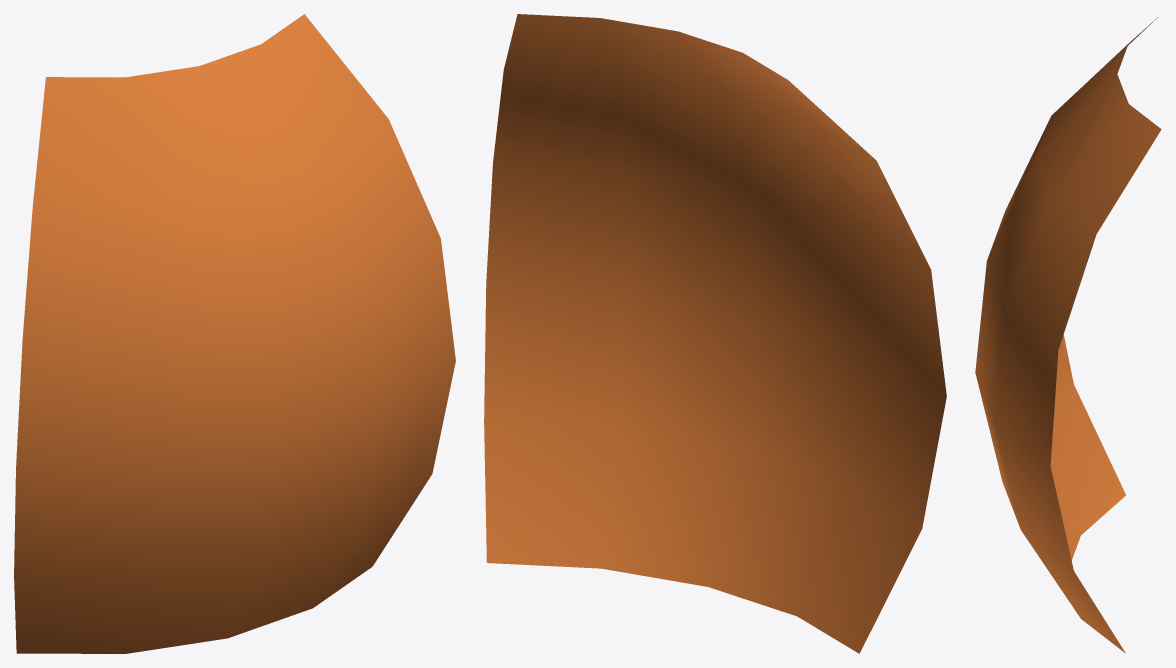
File: Onion_Face.fbx
The picture shows the model from 3 angles, left to right: view 1: azimuth 30°, elevation 25°; view 2: azimuth 150°, elevation 25°; view 3: azimuth 270°, elevation 25°; orthographic projection. The views are drawn at different scales.
Parts seen in each view (by area): view 1: Face; view 2: Face; view 3: Face.
Boxes of the visible parts, x1=… form: Face: x1=14, y1=14, x2=455, y2=653; Face: x1=484, y1=14, x2=946, y2=653; Face: x1=975, y1=17, x2=1161, y2=653.
Size of the model in its own units: 107 by 129 by 42.99.
